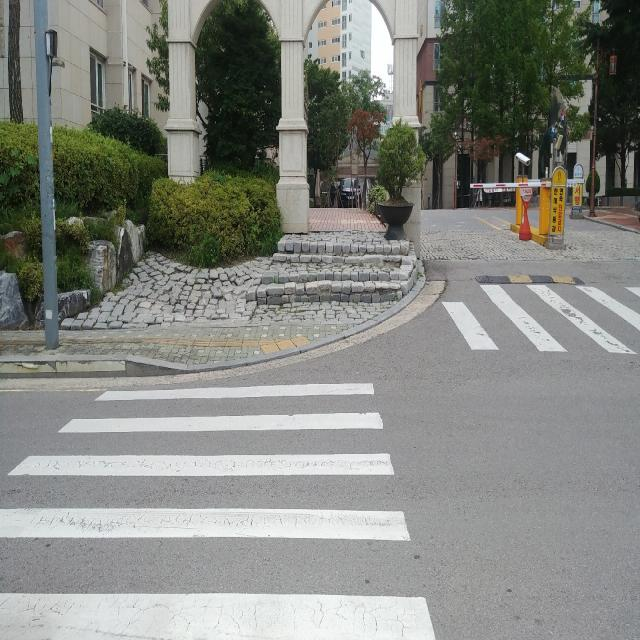횡단보도: (0, 379, 441, 639), (429, 263, 640, 374)
